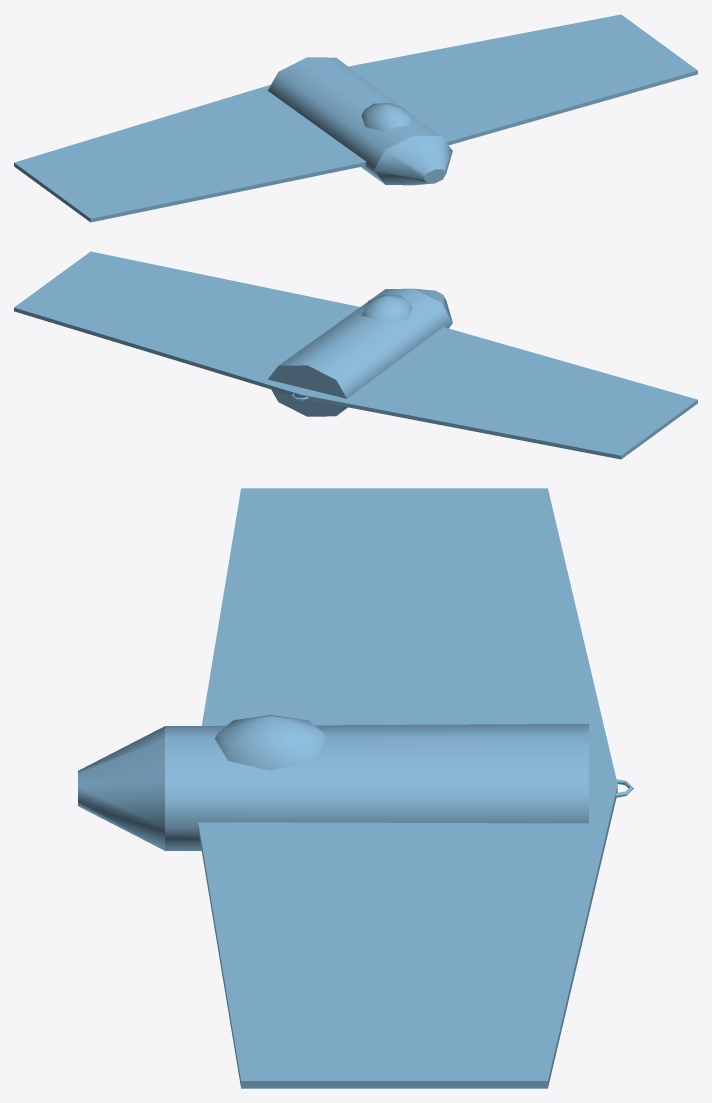
Rendered from fighter-bat-203.glb.
3 renders of one model, top to bottom at view 1: azimuth 30°, elevation 25°; view 2: azimuth 150°, elevation 25°; view 3: azimuth 270°, elevation 25°, orthographic. The views are drawn at different scales.
Size of the model in its own units: 1.93 by 0.1865 by 0.7643.
